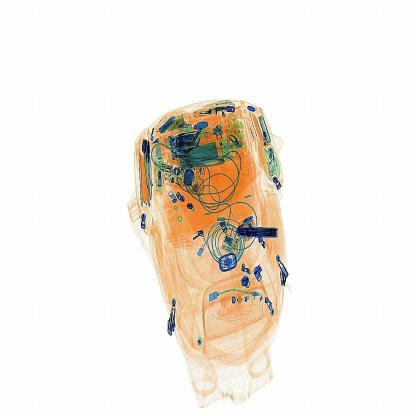scissors: (229, 214, 287, 245)
